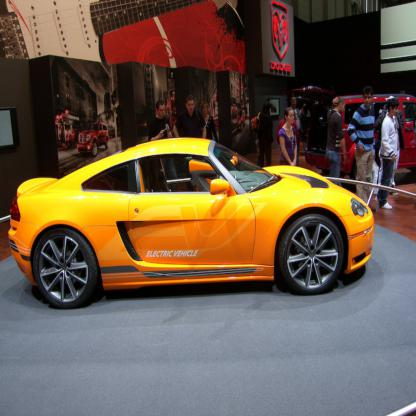Car: (4, 132, 370, 301), (290, 88, 416, 190), (75, 120, 108, 156)
